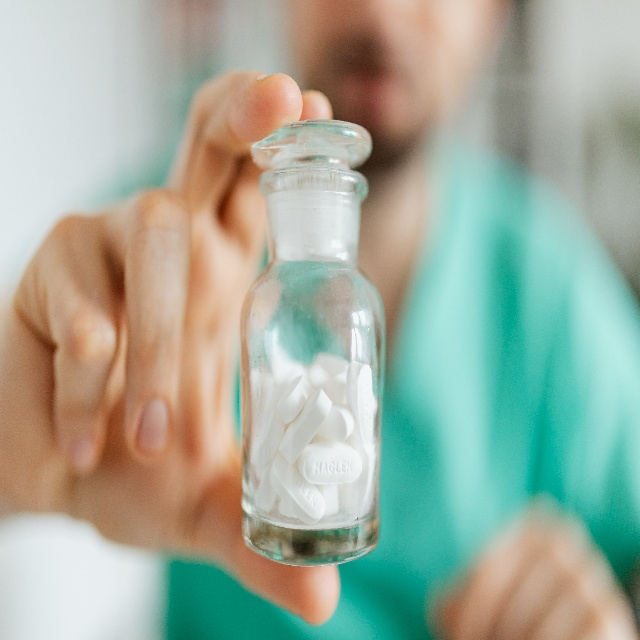Sin_guantes: (0, 65, 342, 629), (436, 496, 640, 640)
